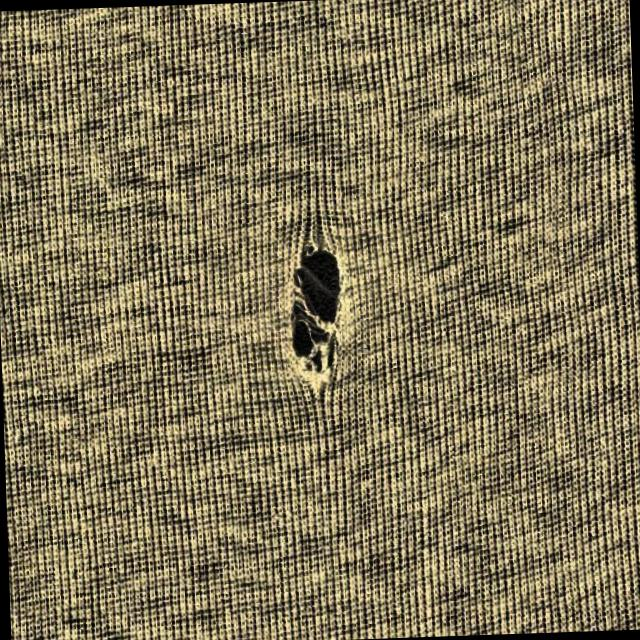cut: (270, 212, 365, 408)
